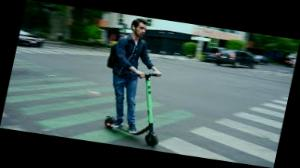nonhelmet: (89, 14, 187, 148)
